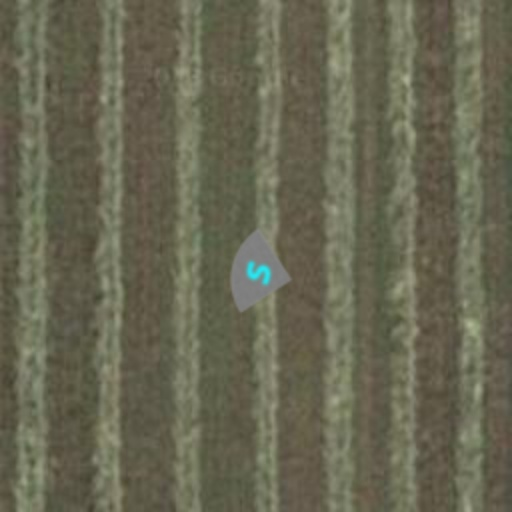quarter_circle: (206, 222, 306, 322)
